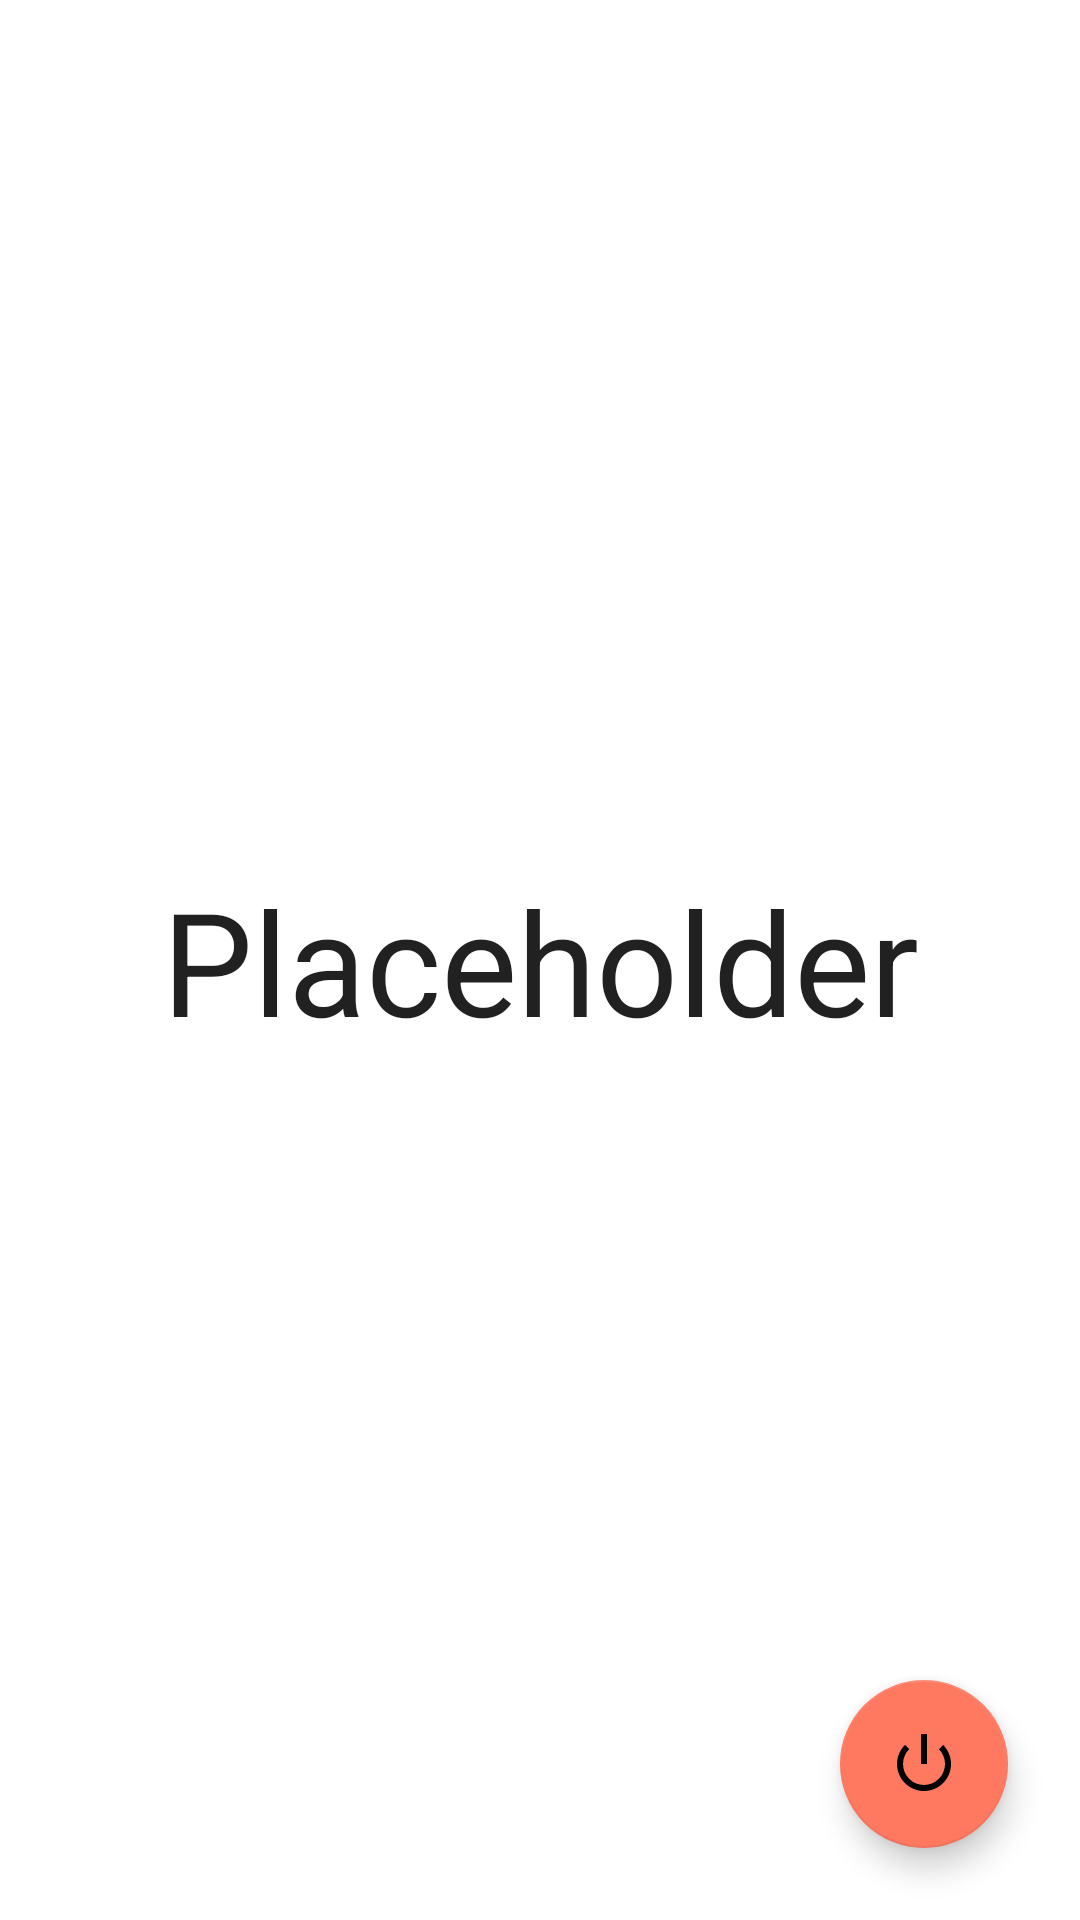

Icons on this 1080px x 1920px Android screen, each with the point to tap as point (x, y):
Encerrar app: point (924, 1764)
